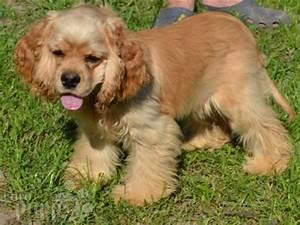dog: (12, 2, 296, 207)
